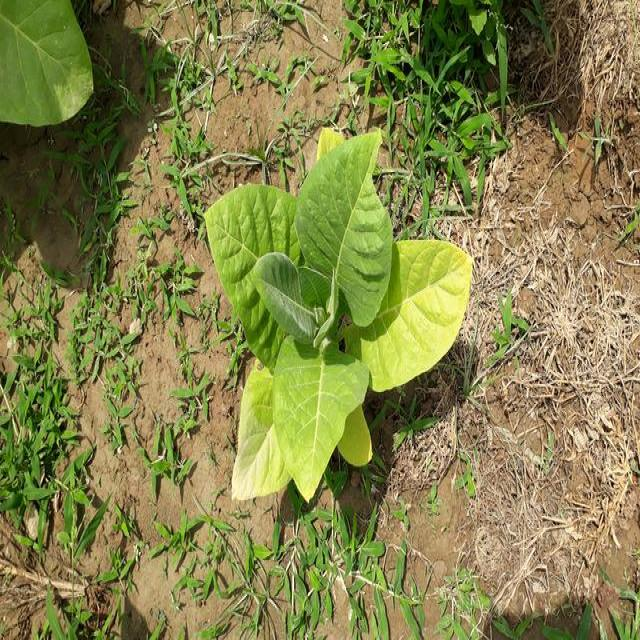crop: (206, 132, 467, 510)
